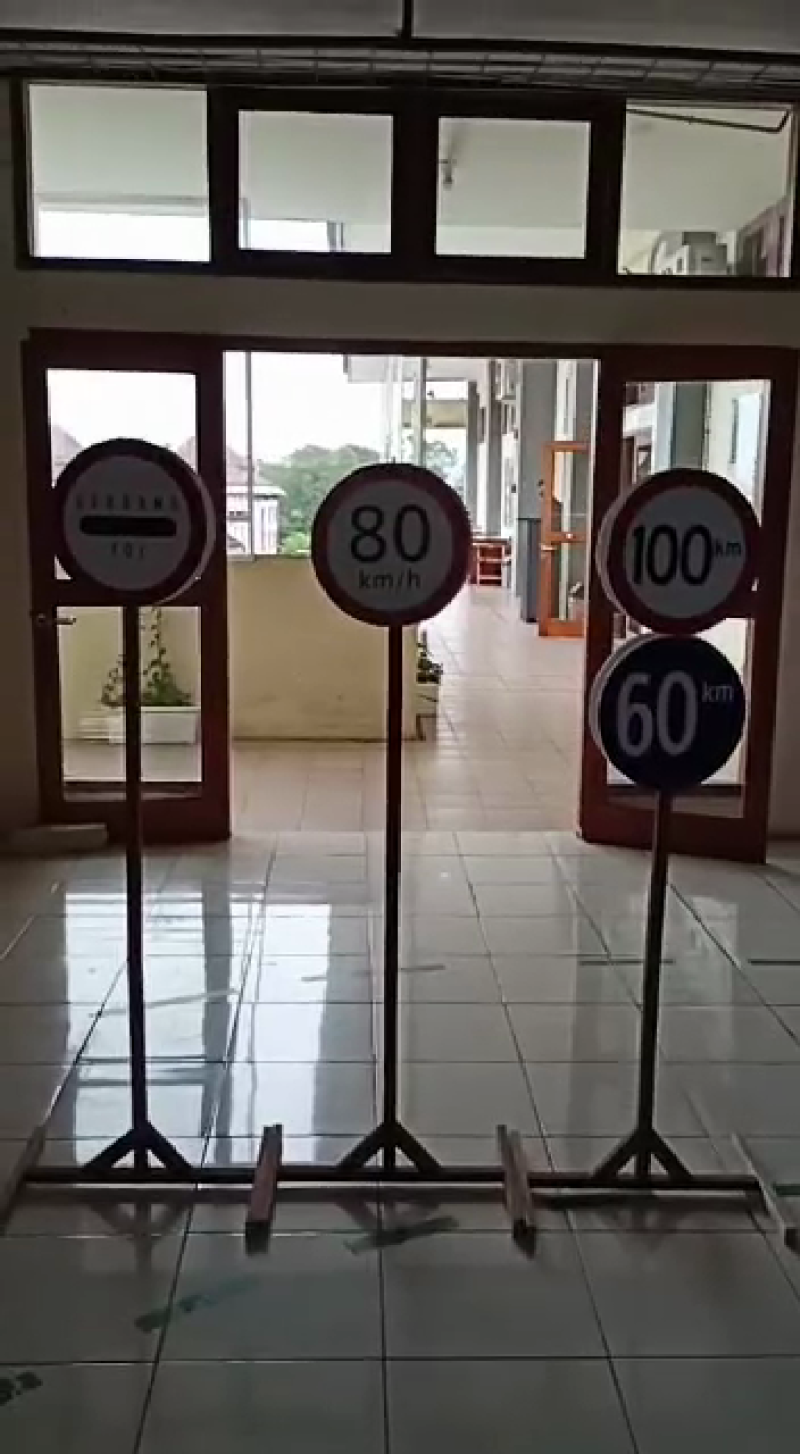batas maksimal 100kmperjam minimal 60kmperjam: (594, 468, 755, 807)
batas maksimal 80kmperjam: (303, 457, 481, 633)
gerbang tol: (42, 435, 224, 614)
